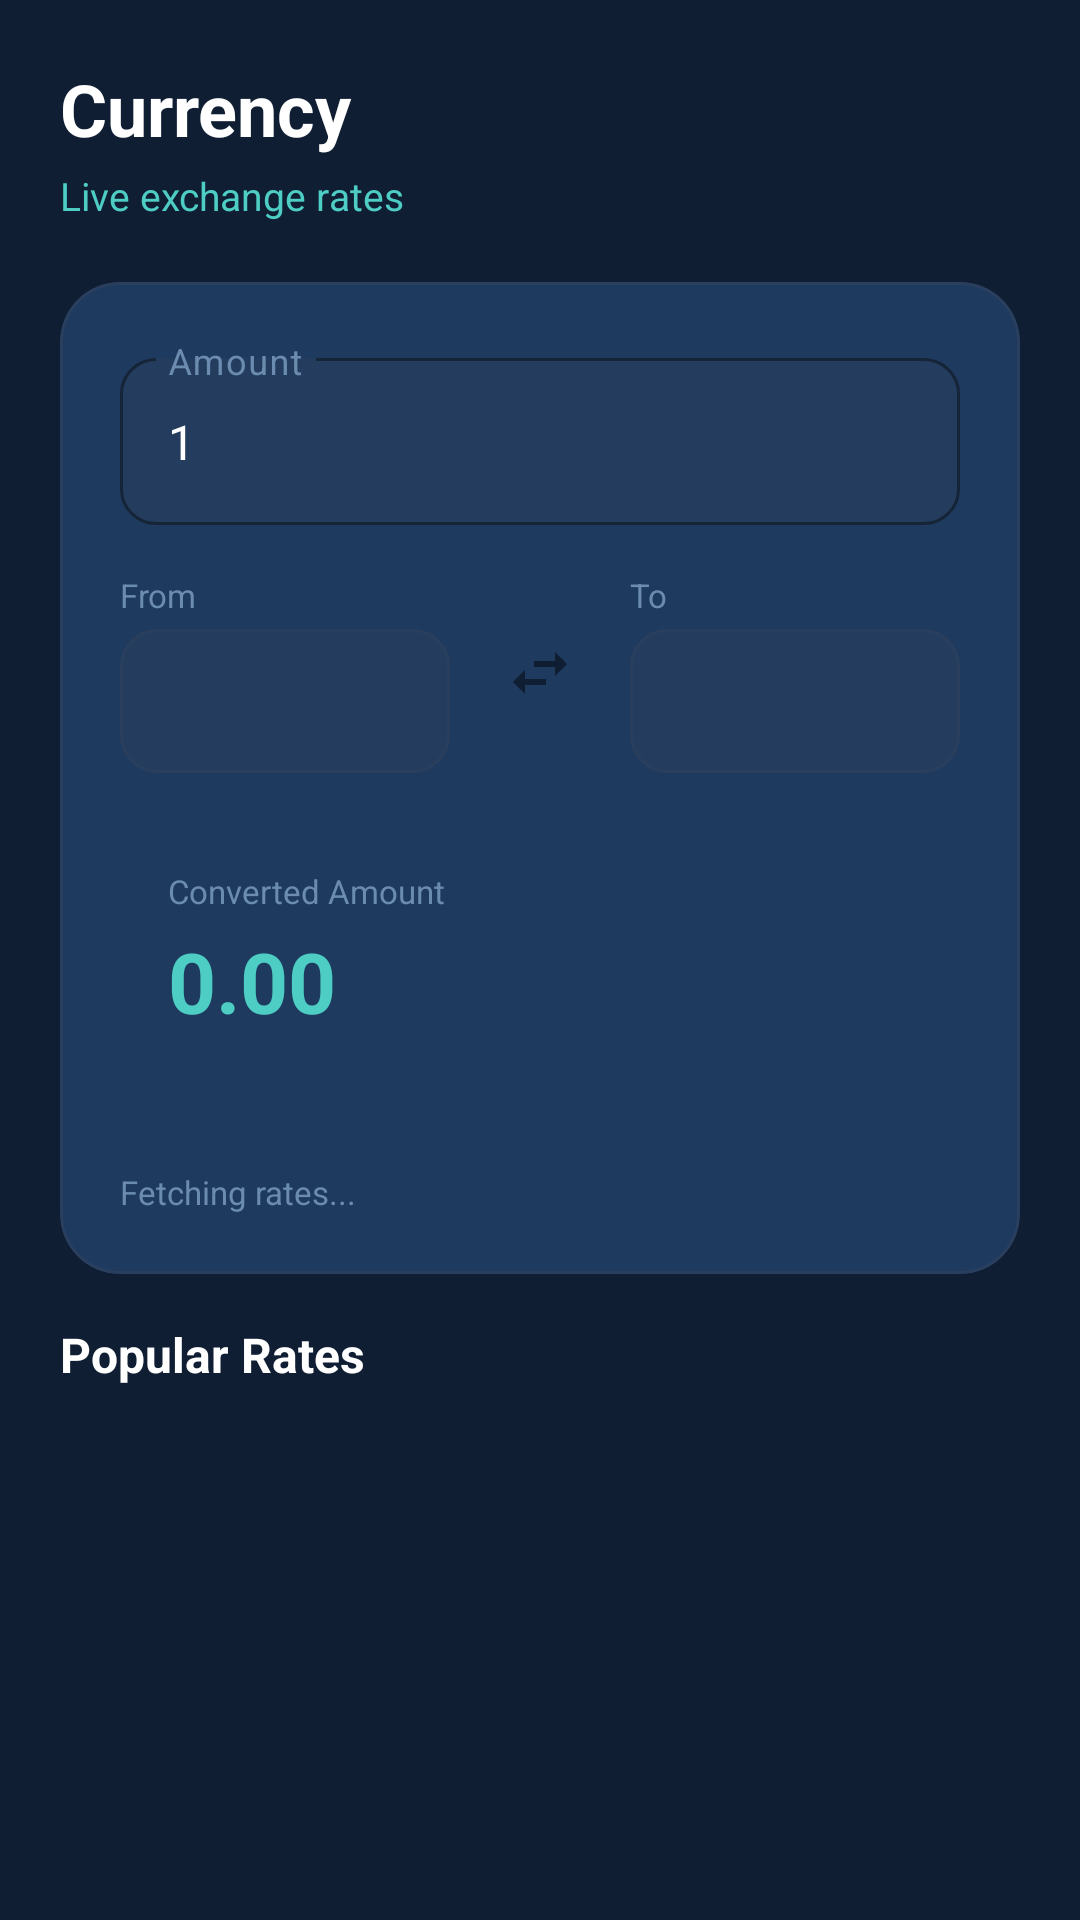

Icon bounding boxes for this 1080w x 1920h phone screenshot, format (x1, y1, x2, y2):
Swap currencies: (513, 652, 567, 694)
